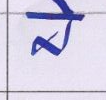e_matra: (52, 1, 78, 13)
